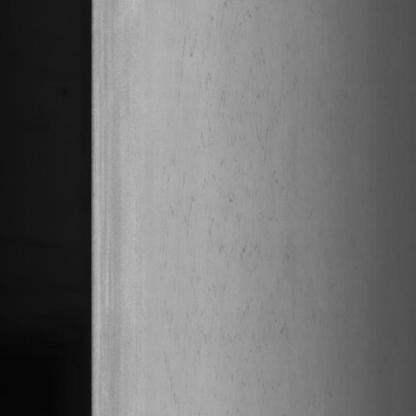silk_spot: (170, 13, 293, 362)
